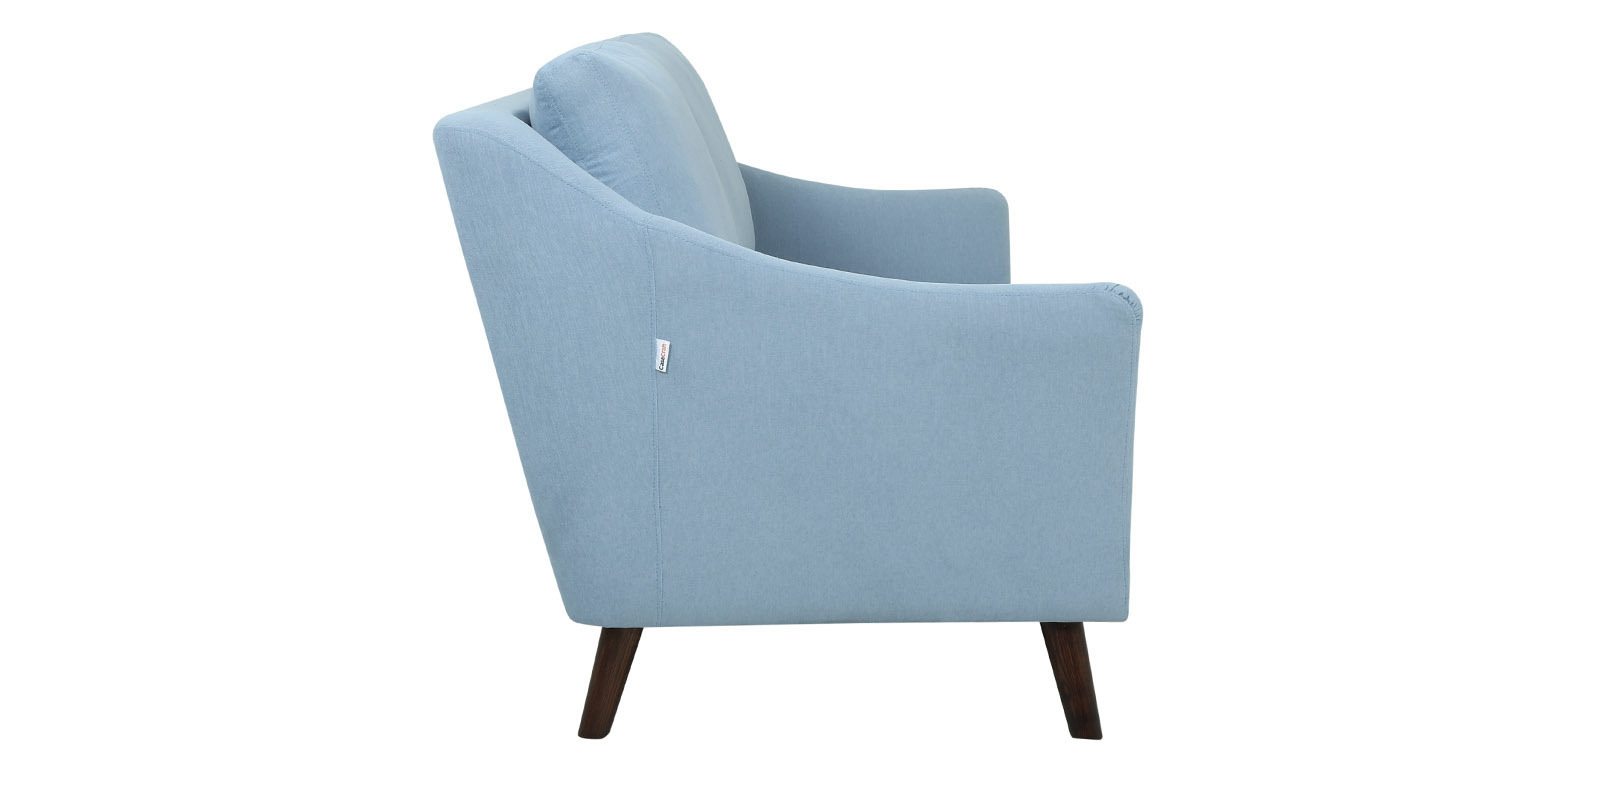Juan Three Seater Sofs in Ice Blue Colour by CasaCraft: (432, 29, 1144, 739)
